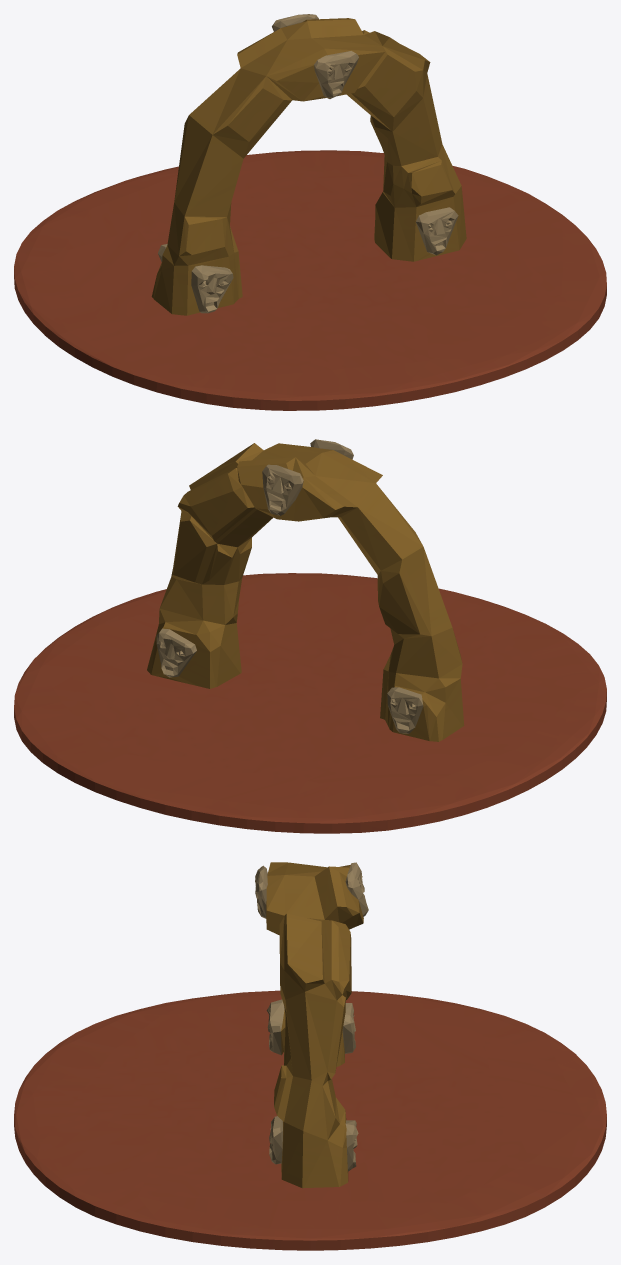
The model's file is Portal (1).fbx.
3 renders of one model, top to bottom at view 1: azimuth 30°, elevation 25°; view 2: azimuth 150°, elevation 25°; view 3: azimuth 270°, elevation 25°, orthographic. The views are drawn at different scales.
Visible parts, largest first — view 1: PORTAL; view 2: PORTAL; view 3: PORTAL.
Boxes of the visible parts, box(x1,y1,x2,y2) form: PORTAL: box(14, 14, 606, 410); PORTAL: box(14, 439, 606, 833); PORTAL: box(14, 862, 606, 1250).
Size of the model in its own units: 652 by 321 by 652.
1 material, 1 textured.
